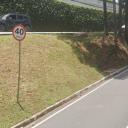speed_limit_40: (12, 24, 26, 41)
